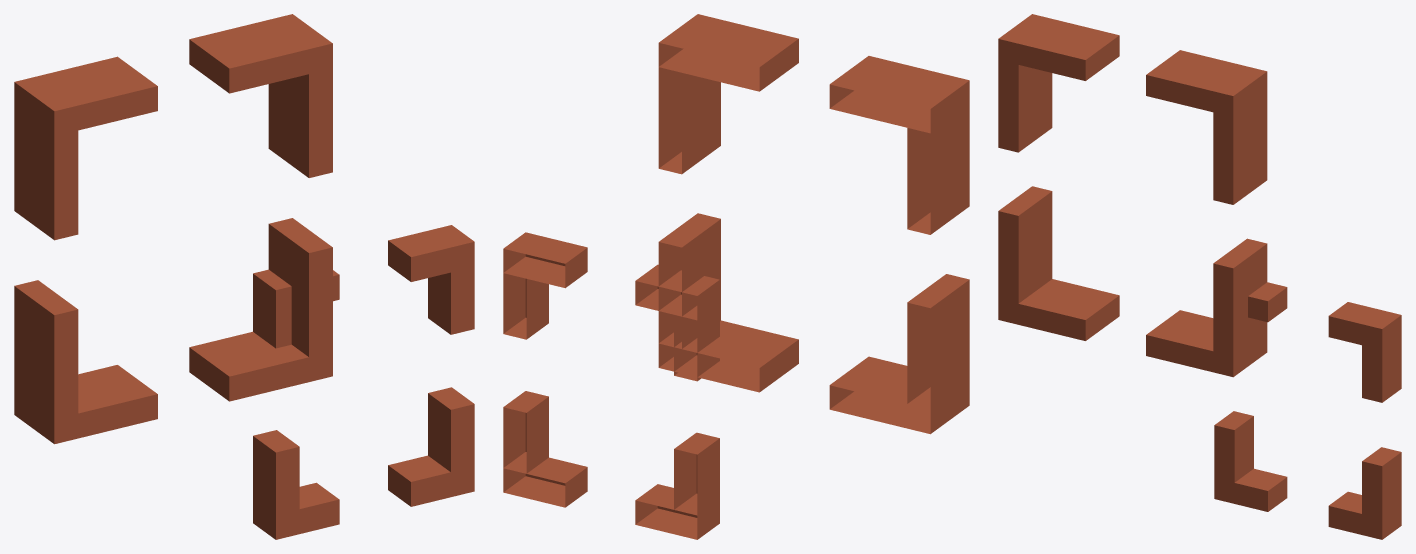
The model's file is construction_0.glb.
3 views of the same model, side by side, from view 1: azimuth 30°, elevation 25°; view 2: azimuth 150°, elevation 25°; view 3: azimuth 330°, elevation 25° (orthographic). The views are drawn at different scales.
Visible parts, largest first — view 1: c0; view 2: c0; view 3: c0.
Boxes of the visible parts, x1,y1,x2,y2 form: c0: (14, 14, 474, 539); c0: (503, 14, 969, 539); c0: (998, 14, 1401, 539).
Size of the model in its own units: 11 by 12 by 1.75.
